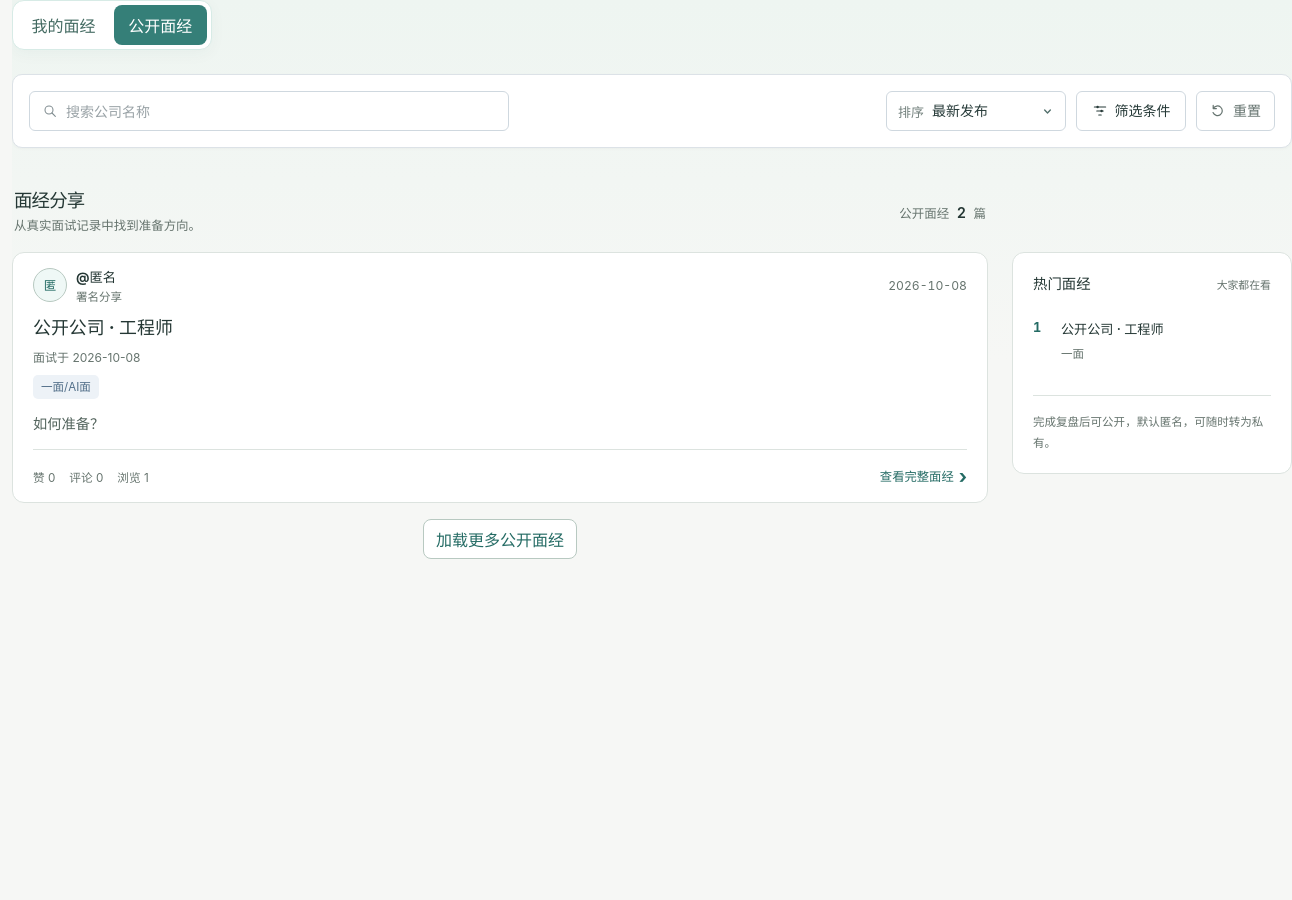
Test case: loads subsequent public interview pages without losing the first page
Step 1. Click the button "加载更多公开面经" → (500, 539), box [423,519,577,559]
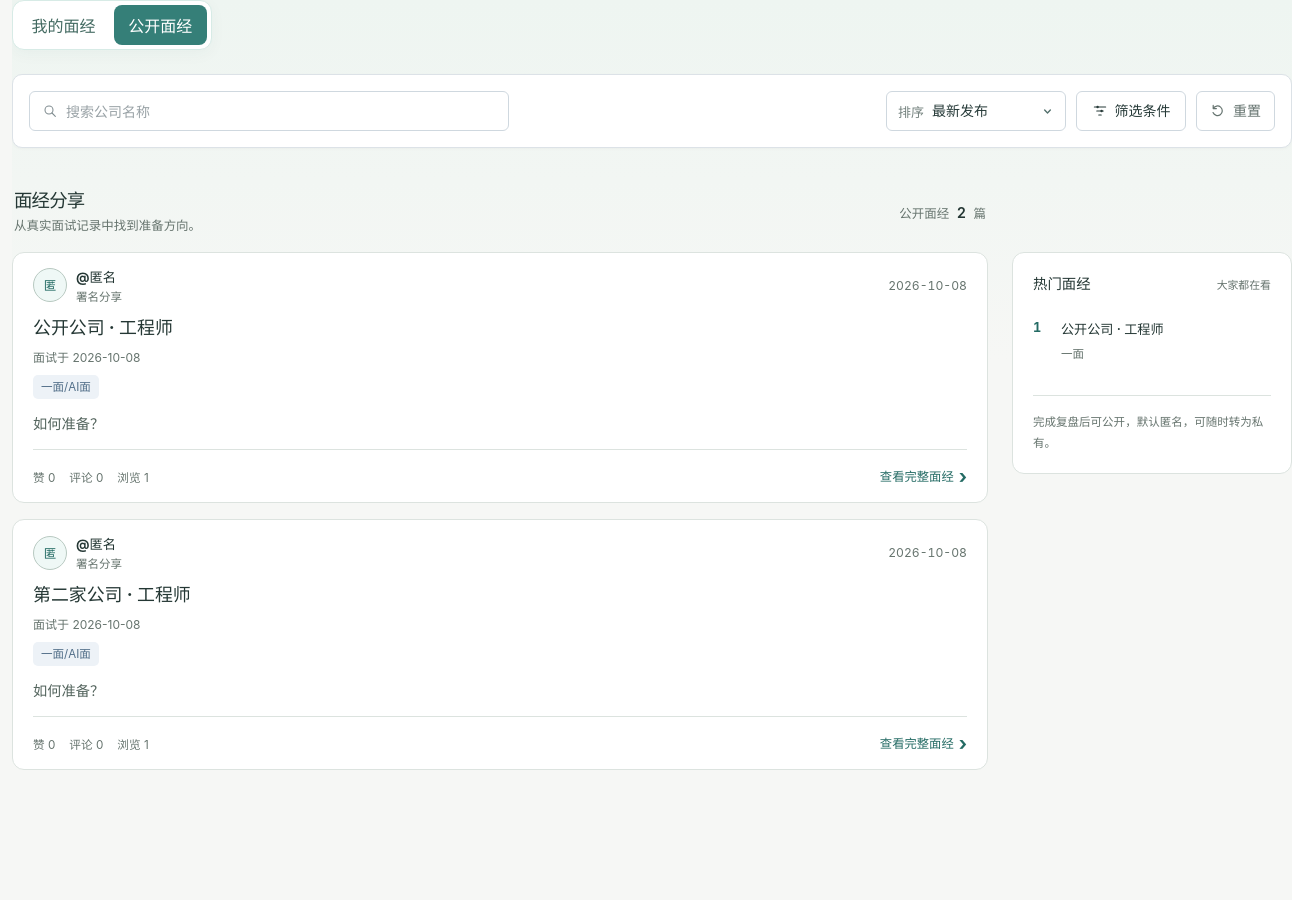
Expected: the heading "公开公司 · 工程师" is shown, [33,314,173,343]
Now the heading "第二家公司 · 工程师" is shown, box [33,581,191,610]
